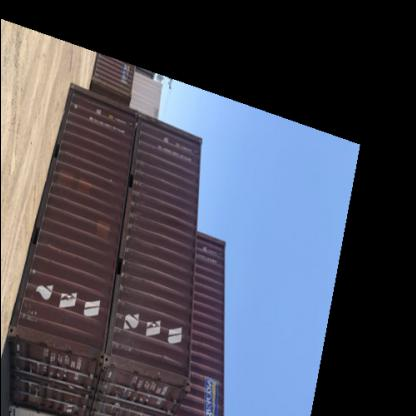Damage: (25, 324, 79, 356)
